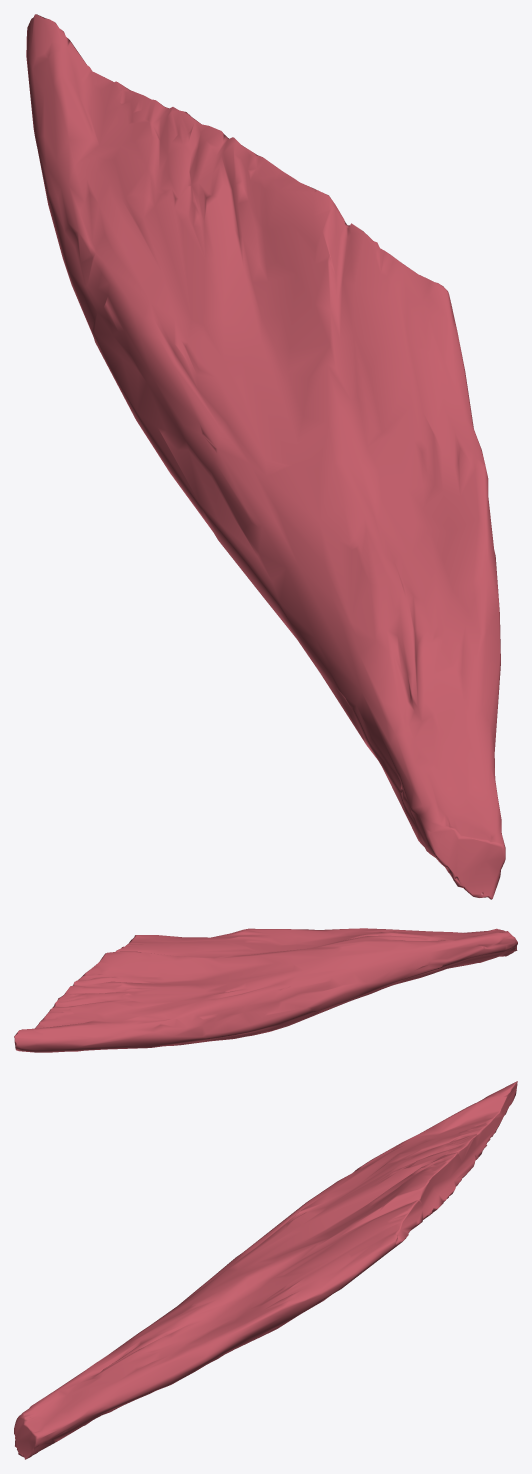
3 views of the same model, one above another, from view 1: azimuth 30°, elevation 25°; view 2: azimuth 150°, elevation 25°; view 3: azimuth 330°, elevation 25° (orthographic). The views are drawn at different scales.
Parts seen in each view (by area): view 1: 左侧长收肌; view 2: 左侧长收肌; view 3: 左侧长收肌.
Boxes of the visible parts, x1,y1,x2,y2 form: 左侧长收肌: [26, 14, 505, 899]; 左侧长收肌: [14, 928, 517, 1052]; 左侧长收肌: [14, 1081, 517, 1459].
Bounding box in the file's own units: 0.1224 × 0.0881 × 0.3902.
